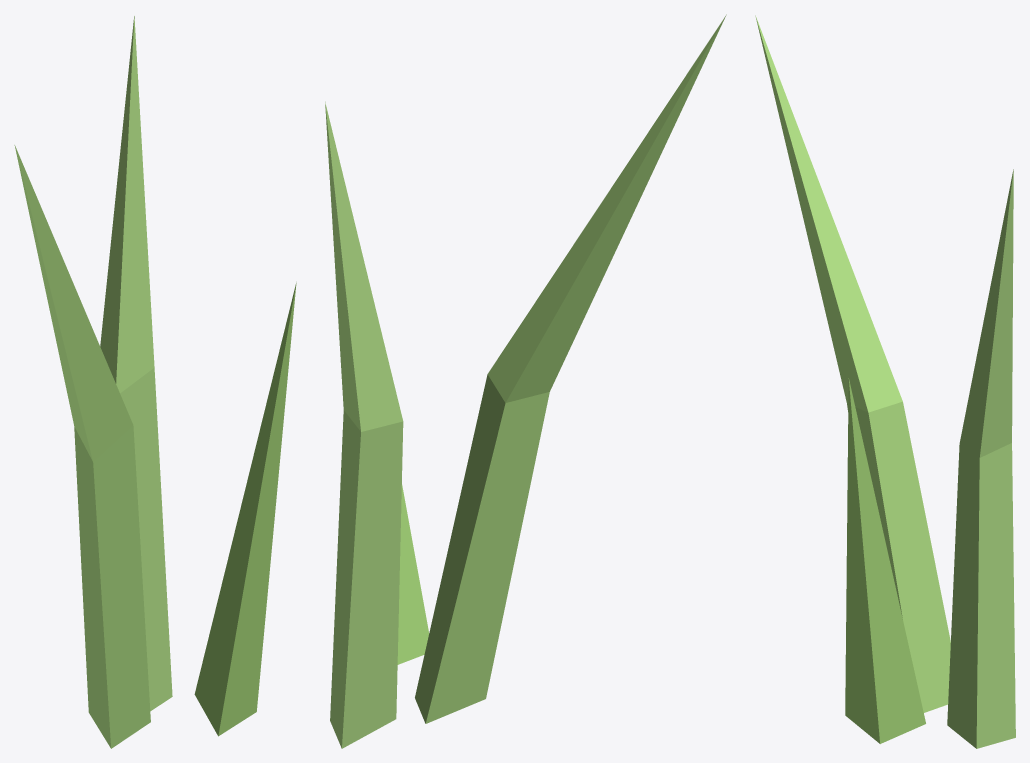
File: Grass3D_a_03.fbx
3 views of the same model, side by side, from view 1: azimuth 30°, elevation 25°; view 2: azimuth 150°, elevation 25°; view 3: azimuth 270°, elevation 25° (orthographic). The views are drawn at different scales.
Parts seen in each view (by area): view 1: Grass3D_a_03; view 2: Grass3D_a_03; view 3: Grass3D_a_03.
Part boxes in pixels (left/top/right/bottom): Grass3D_a_03: left=14, top=16, right=296, bottom=748; Grass3D_a_03: left=325, top=14, right=726, bottom=748; Grass3D_a_03: left=755, top=15, right=1015, bottom=748.
Size of the model in its own units: 28.98 by 59.36 by 22.7.
